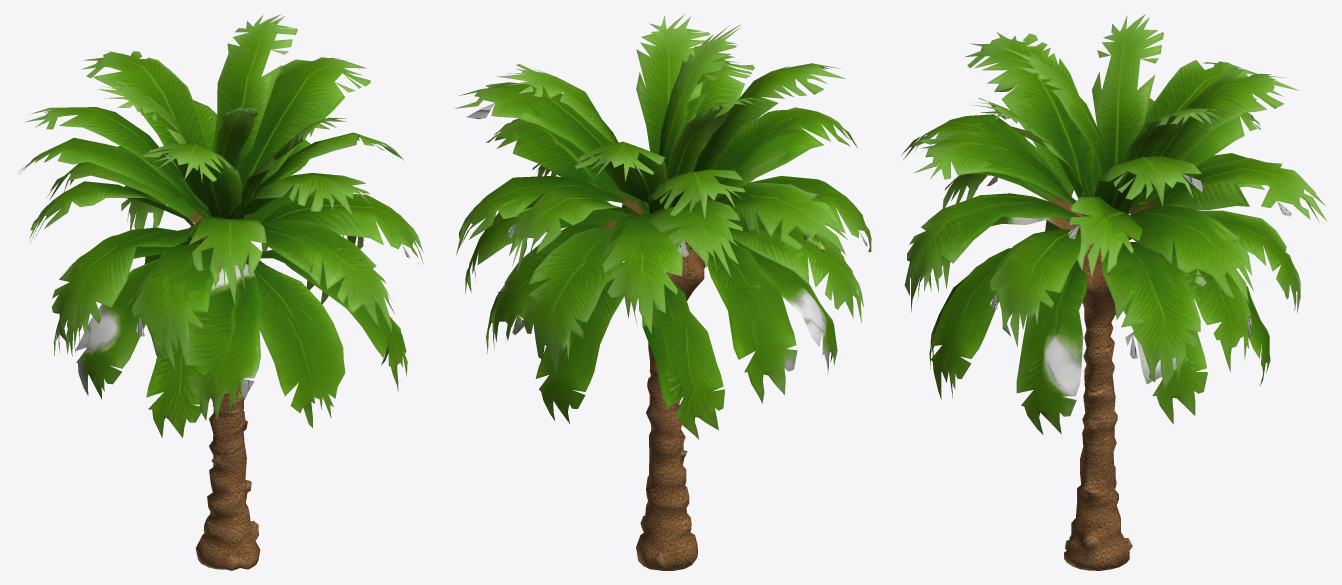
File: palm+tree+3d+model.fbx
3 renders of one model, left to right at view 1: azimuth 30°, elevation 25°; view 2: azimuth 150°, elevation 25°; view 3: azimuth 270°, elevation 25°, orthographic. The views are drawn at different scales.
Visible parts, largest first — view 1: tripo_node_efa0f899-7089-476f-803d-8669f8adf8c8; view 2: tripo_node_efa0f899-7089-476f-803d-8669f8adf8c8; view 3: tripo_node_efa0f899-7089-476f-803d-8669f8adf8c8.
Boxes of the visible parts, box(x1,y1,x2,y2) form: tripo_node_efa0f899-7089-476f-803d-8669f8adf8c8: box(19, 14, 423, 570); tripo_node_efa0f899-7089-476f-803d-8669f8adf8c8: box(455, 14, 871, 570); tripo_node_efa0f899-7089-476f-803d-8669f8adf8c8: box(901, 14, 1327, 570).
Bounding box in the file's own units: 0.7715 × 0.998 × 0.7754.
1 material, 1 textured.
